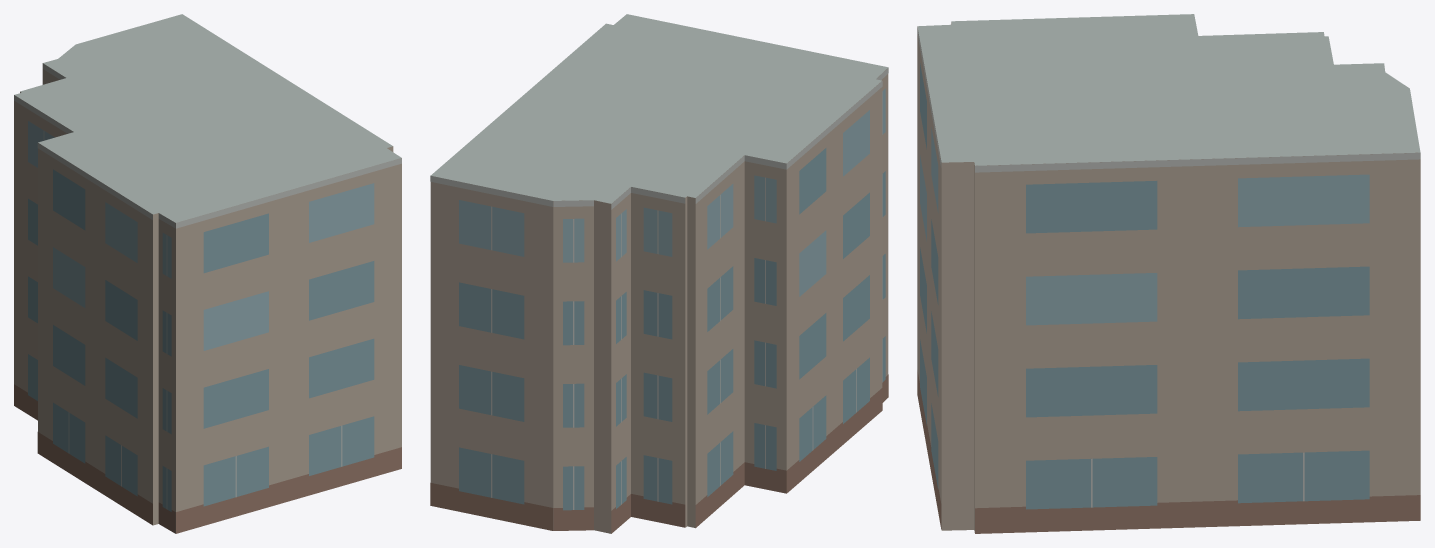
The model's file is survey-upis-32682186.glb.
3 views of the same model, side by side, from view 1: azimuth 30°, elevation 25°; view 2: azimuth 150°, elevation 25°; view 3: azimuth 270°, elevation 25° (orthographic). The views are drawn at different scales.
Parts seen in each view (by area): view 1: survey-upis-32682186.tmp; view 2: survey-upis-32682186.tmp; view 3: survey-upis-32682186.tmp.
Boxes of the visible parts, <box> form: survey-upis-32682186.tmp: <box>14,14,401,533</box>; survey-upis-32682186.tmp: <box>430,14,888,533</box>; survey-upis-32682186.tmp: <box>917,14,1420,533</box>.
Size of the model in its own units: 11.68 by 13.2 by 16.36.
